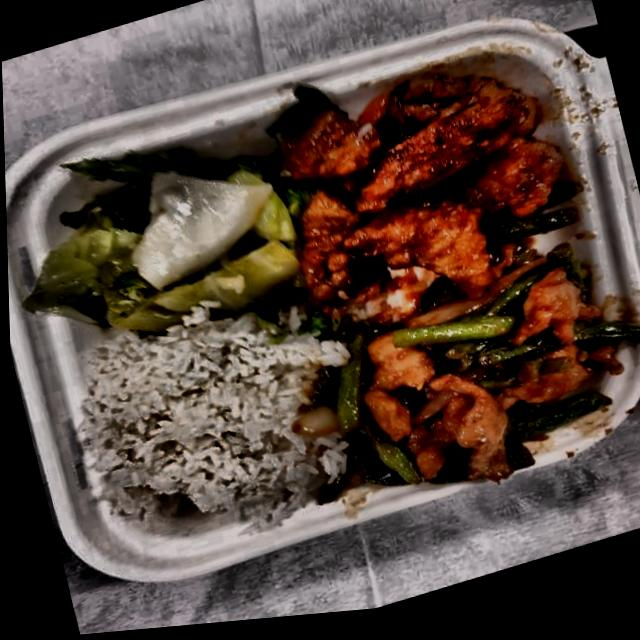Food: (250, 32, 596, 343), (305, 237, 640, 523), (21, 114, 316, 375), (60, 293, 336, 561)
